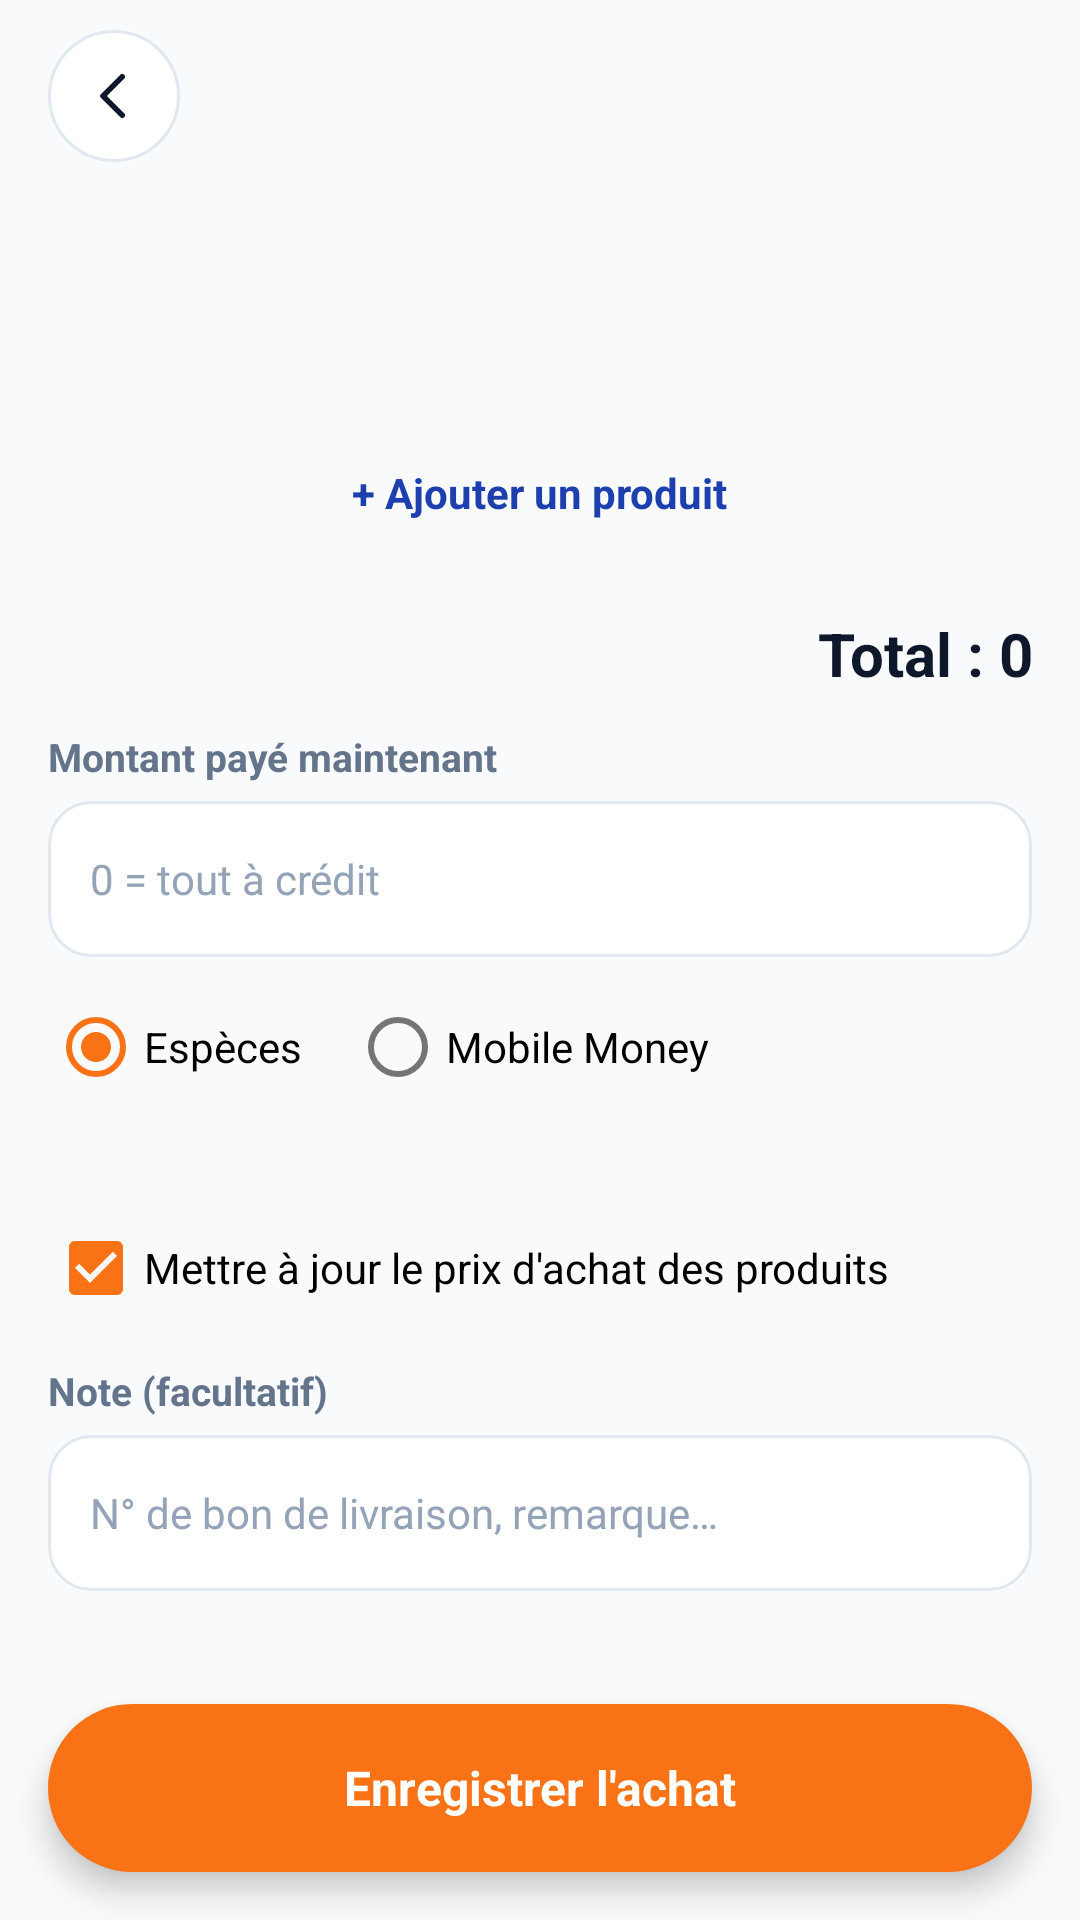

Screen size 1080*1920. Icon name, then its center in pixels as (x=x, y=y):
Retour: (x=112, y=96)
